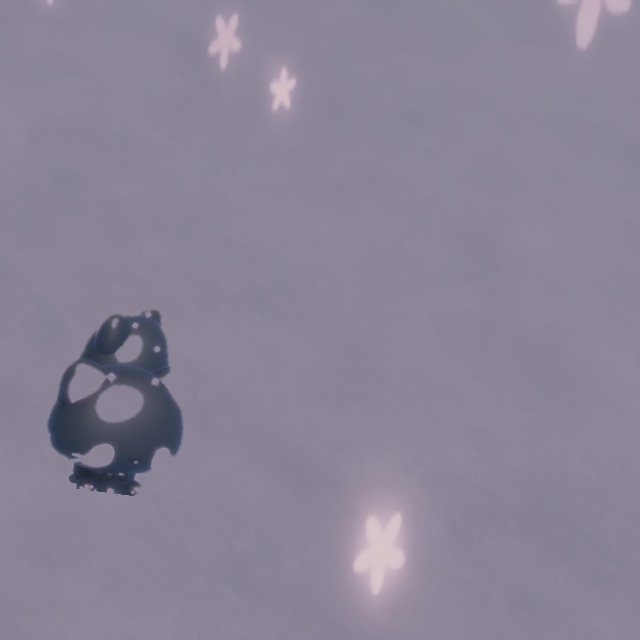urso_preto: (33, 284, 214, 504)
